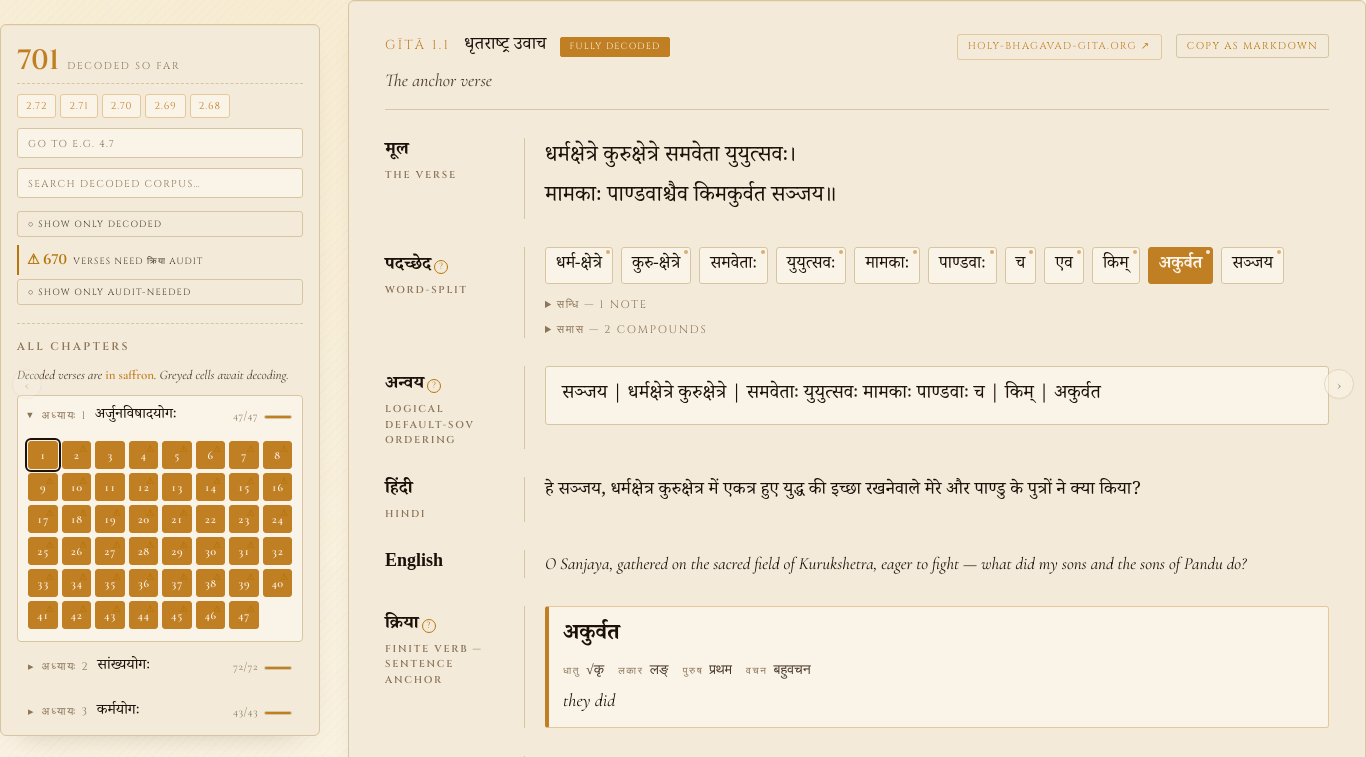
Test: VerseJourney — search › search with no matches shows the empty-state line
Type "qzxqzxqzxqzx" into the search field with class "rail-search" at (160, 183), box [17,168,303,198]
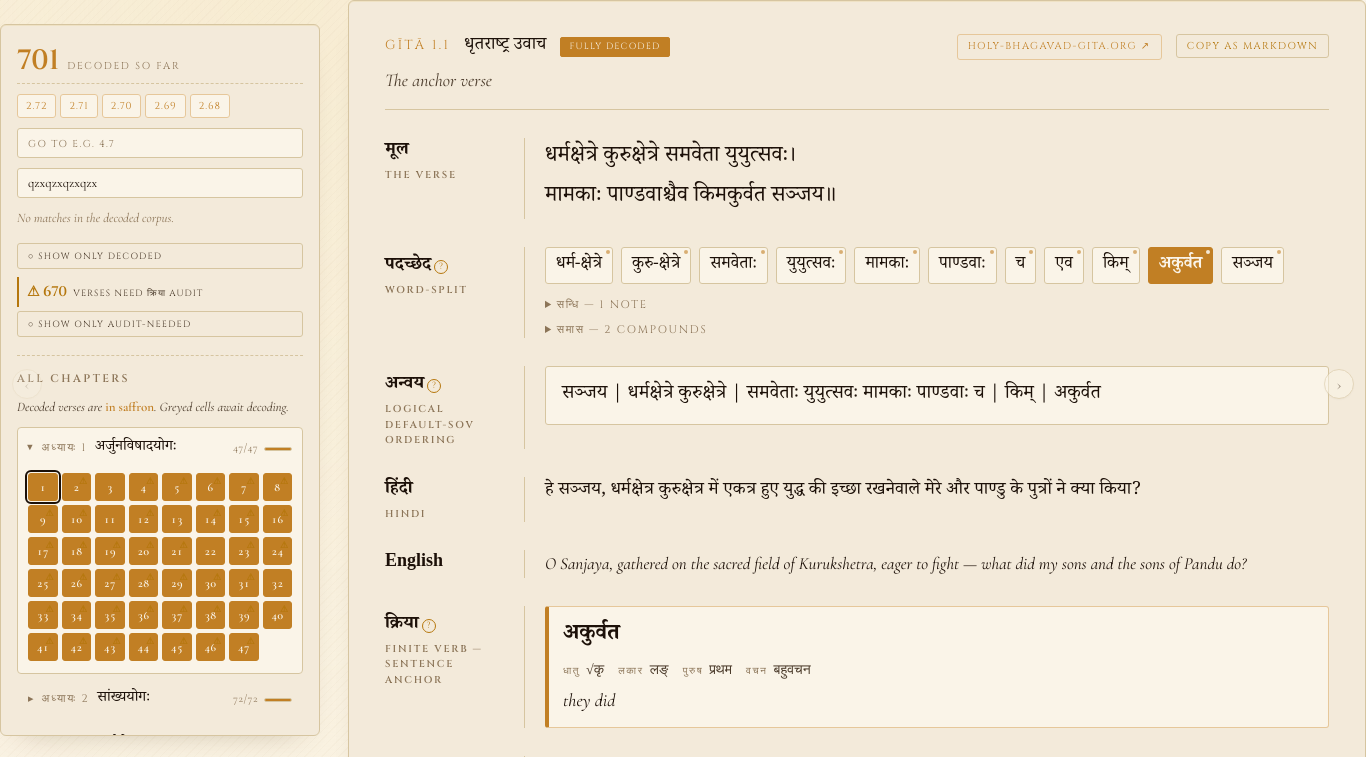
Expected: the text "No matches in the decoded corpus." is shown, [17,210,174,226]
